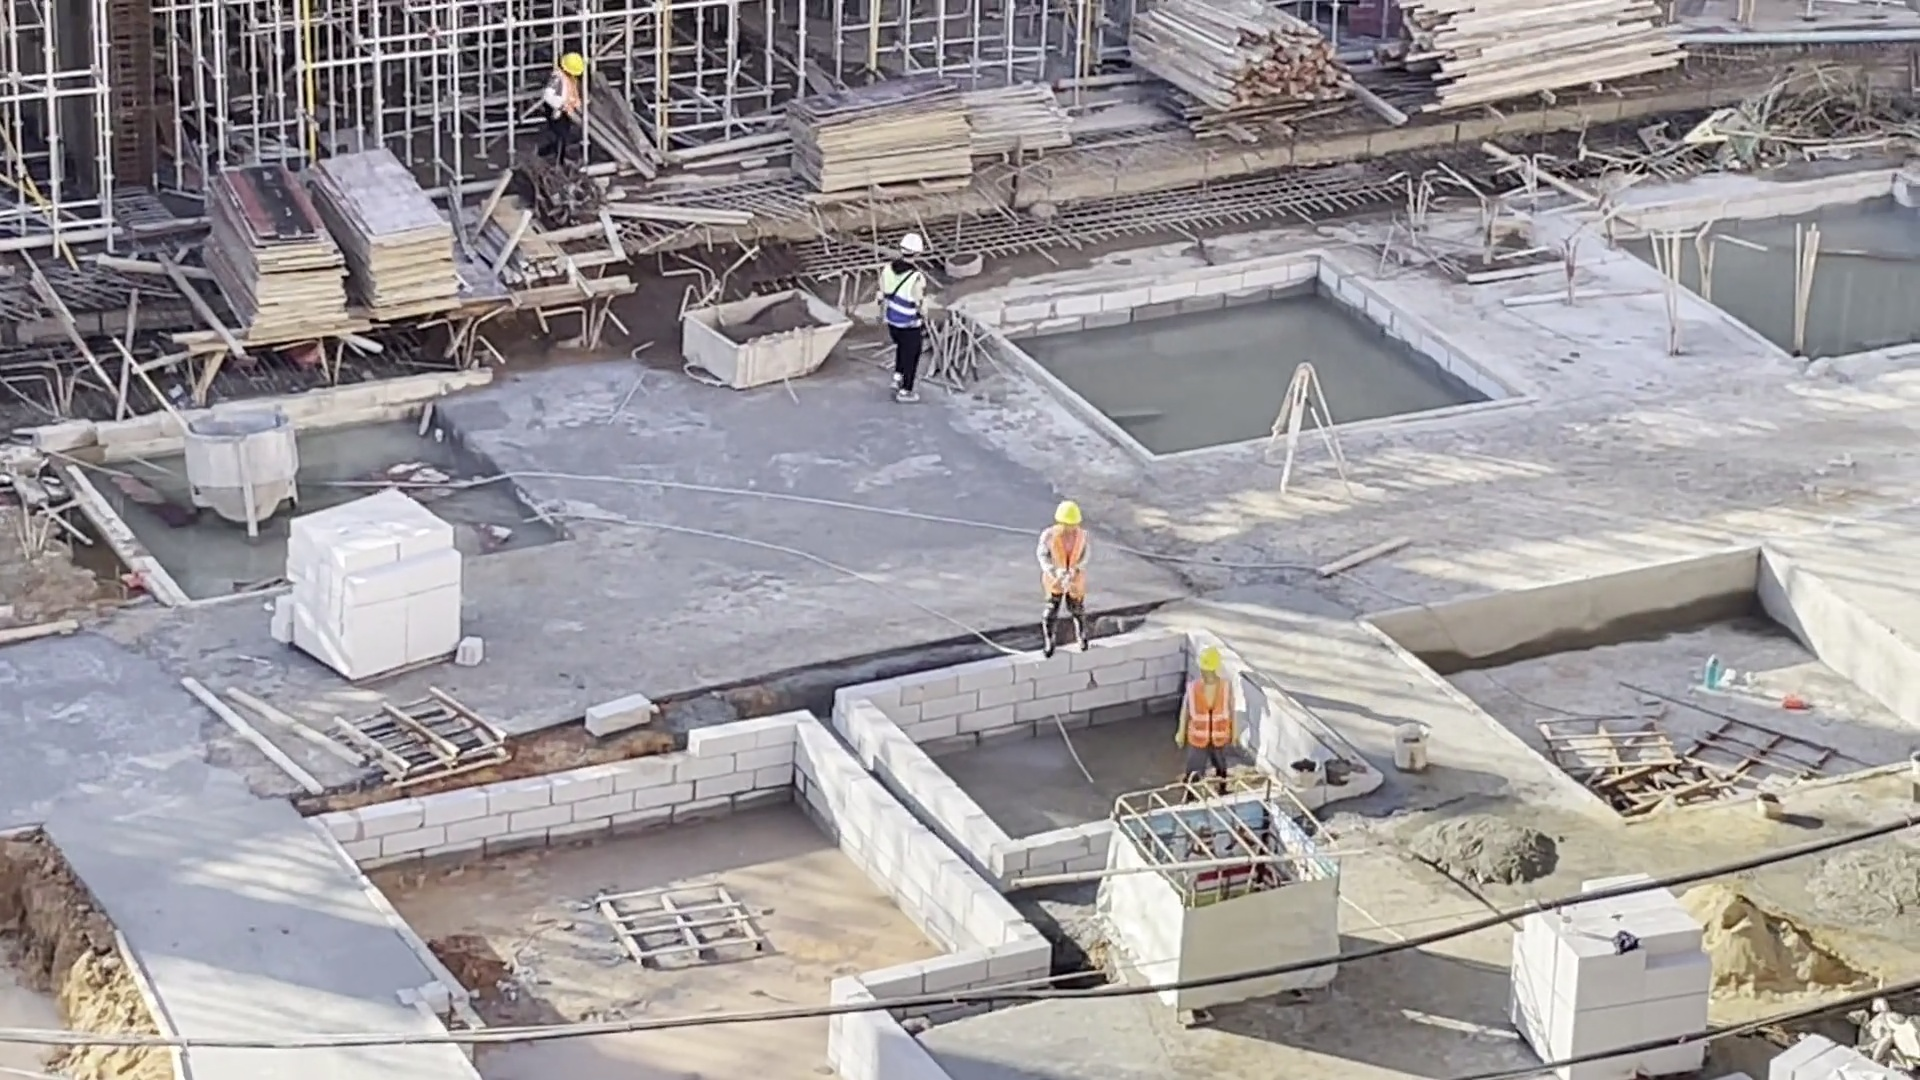helmet: (1055, 498, 1087, 529), (1194, 647, 1226, 674), (900, 232, 927, 256), (556, 53, 585, 74)
person: (873, 229, 931, 405), (1173, 643, 1240, 794), (1038, 499, 1097, 659), (540, 52, 586, 163)
vest: (876, 262, 930, 329), (1187, 677, 1235, 749), (1039, 529, 1089, 598), (554, 74, 585, 117)
